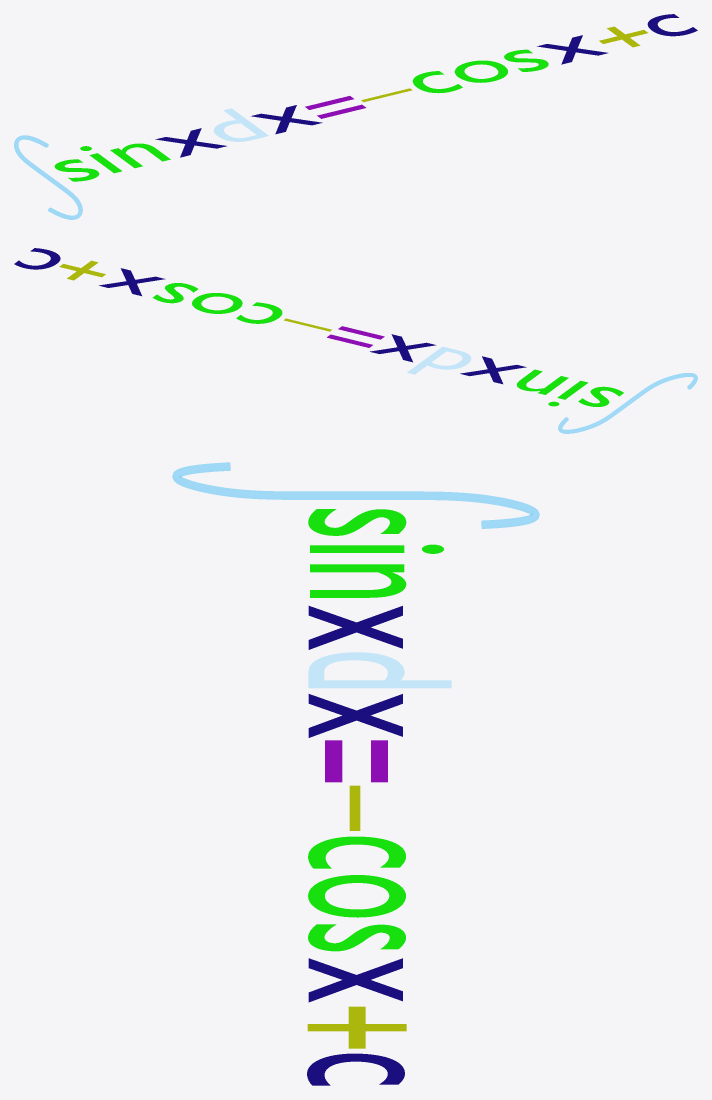
File: intsinx.glb
The picture shows the model from 3 angles, top to bottom: view 1: azimuth 30°, elevation 25°; view 2: azimuth 150°, elevation 25°; view 3: azimuth 270°, elevation 25°; orthographic projection. The views are drawn at different scales.
Parts seen in each view (by area): view 1: int din sin x dx; view 2: int din sin x dx; view 3: int din sin x dx.
Part boxes in pixels (left/top/right/bottom): int din sin x dx: left=14, top=14, right=697, bottom=219; int din sin x dx: left=14, top=248, right=697, bottom=433; int din sin x dx: left=172, top=462, right=539, bottom=1085.
Size of the model in its own units: 7 by 0.0401 by 1.75.
